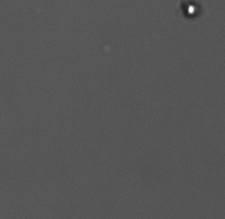Living Cell: (181, 1, 200, 19)
